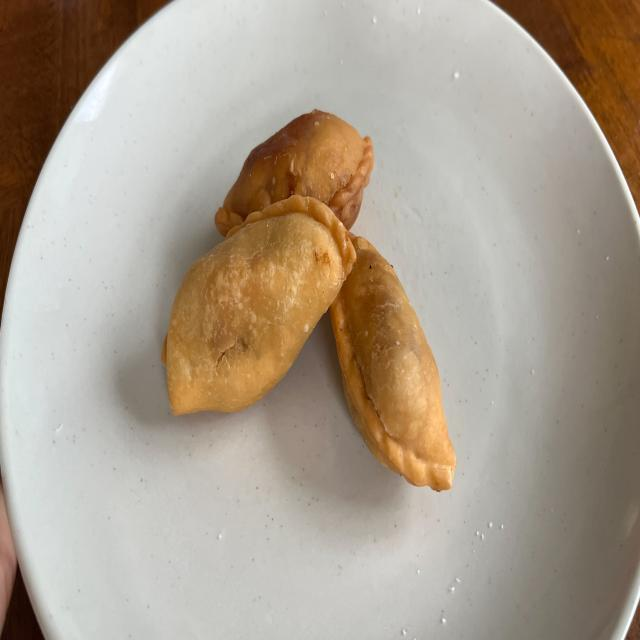karipap: (161, 196, 356, 416), (330, 236, 456, 491), (215, 109, 374, 236)
